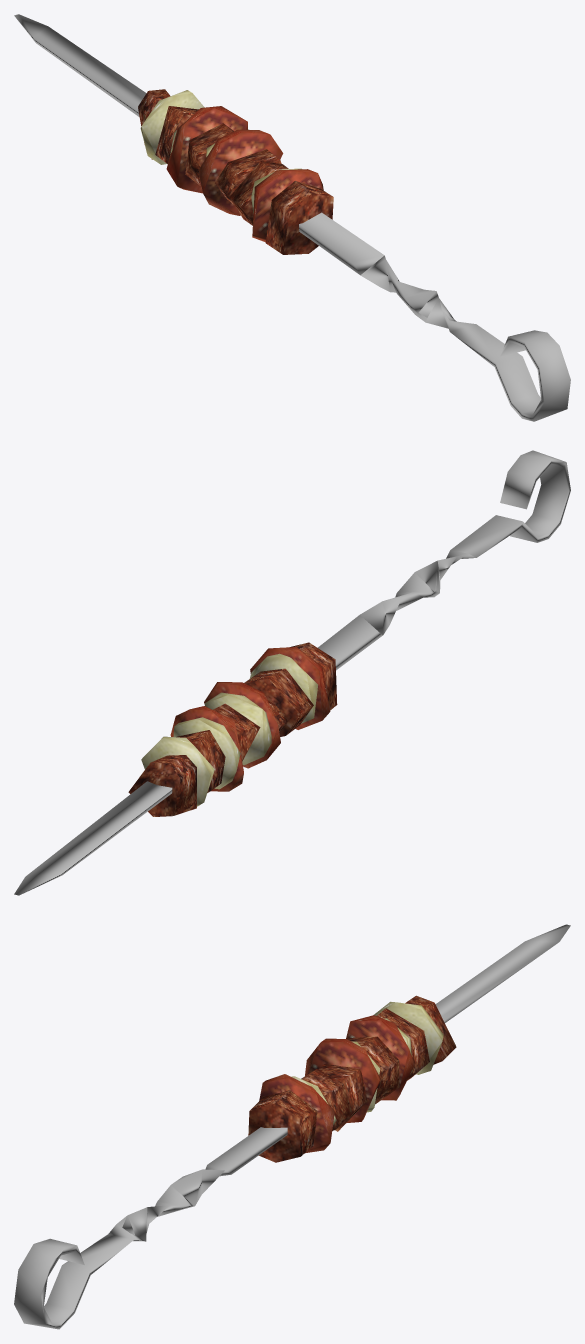
Rendered from shampur.fbx.
3 views of the same model, one above another, from view 1: azimuth 30°, elevation 25°; view 2: azimuth 150°, elevation 25°; view 3: azimuth 330°, elevation 25° (orthographic).
Visible parts, largest first — view 1: Cube.000; view 2: Cube.000; view 3: Cube.000.
Boxes of the visible parts, x1,y1,x2,y2 form: Cube.000: [14, 14, 570, 421]; Cube.000: [14, 450, 570, 895]; Cube.000: [14, 924, 570, 1329].
Size of the model in its own units: 62.54 by 71.46 by 747.
Materials: 1 (1 with a texture image).
